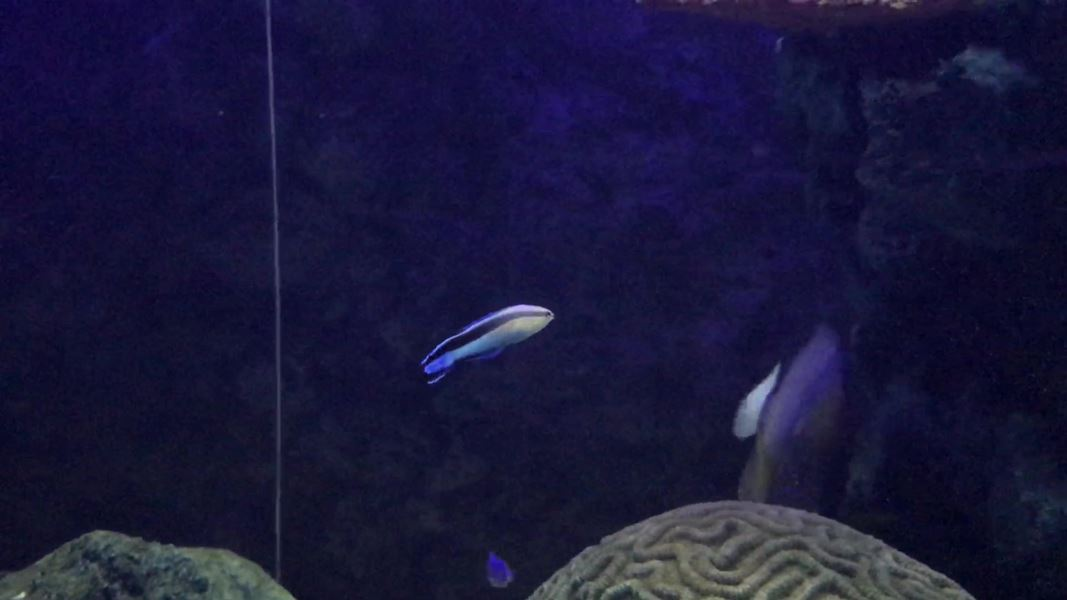Bluesteak cleaner wrasse: (413, 296, 558, 400)
